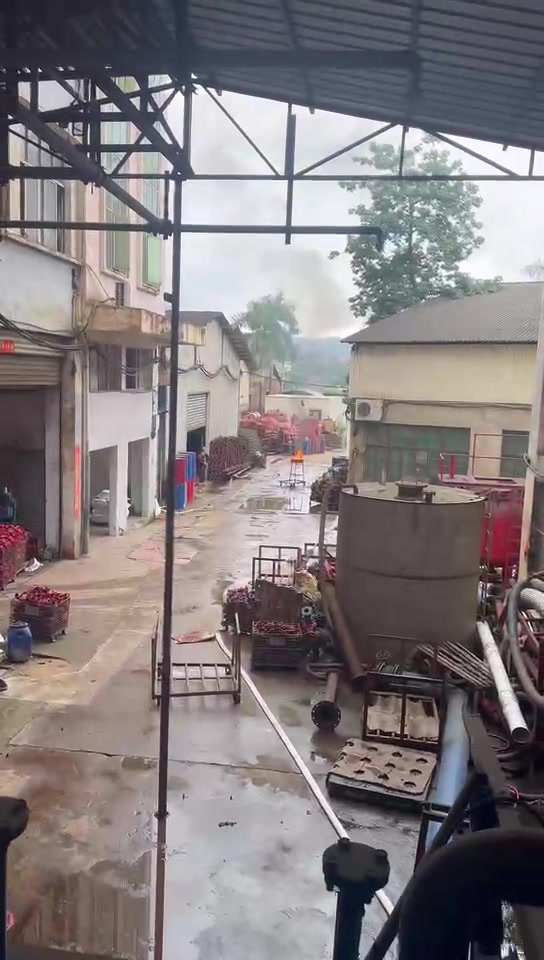fire: (291, 449, 303, 460)
